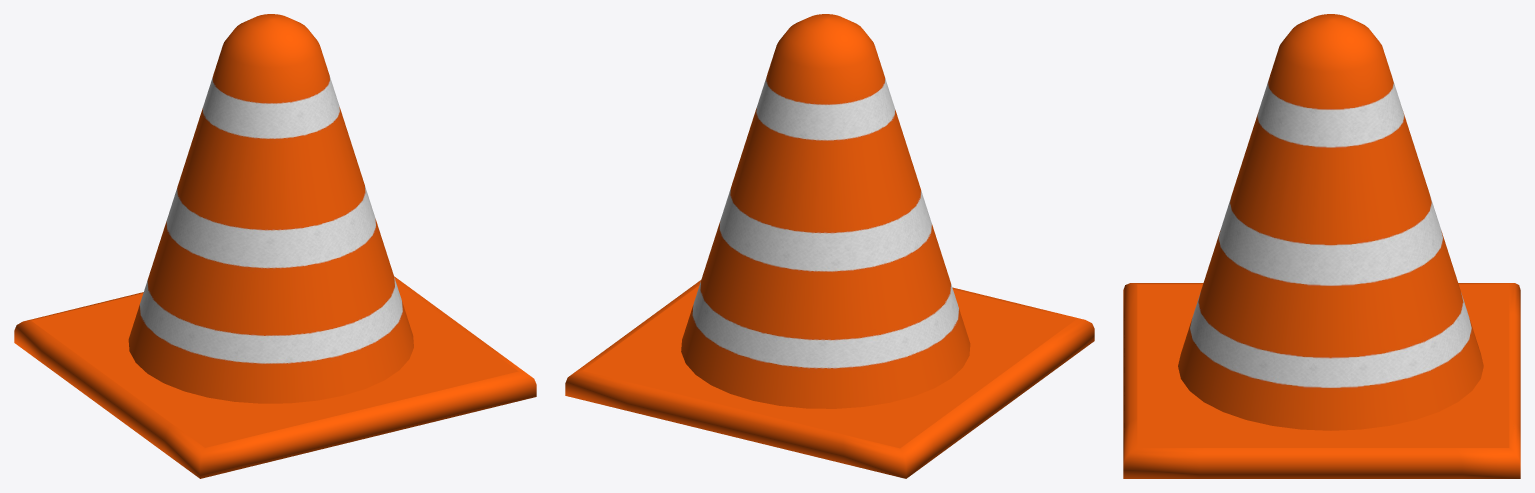
Rendered from plot.obj.
3 views of the same model, side by side, from view 1: azimuth 30°, elevation 25°; view 2: azimuth 150°, elevation 25°; view 3: azimuth 270°, elevation 25° (orthographic). The views are drawn at different scales.
Parts seen in each view (by area): view 1: defaultMaterial; view 2: defaultMaterial; view 3: defaultMaterial.
Part boxes in pixels (left/top/right/bottom): defaultMaterial: left=14, top=14, right=536, bottom=478; defaultMaterial: left=565, top=14, right=1094, bottom=478; defaultMaterial: left=1123, top=14, right=1520, bottom=478.
Size of the model in its own units: 2 by 1.98 by 1.91.
Materials: 1 (1 with a texture image).
